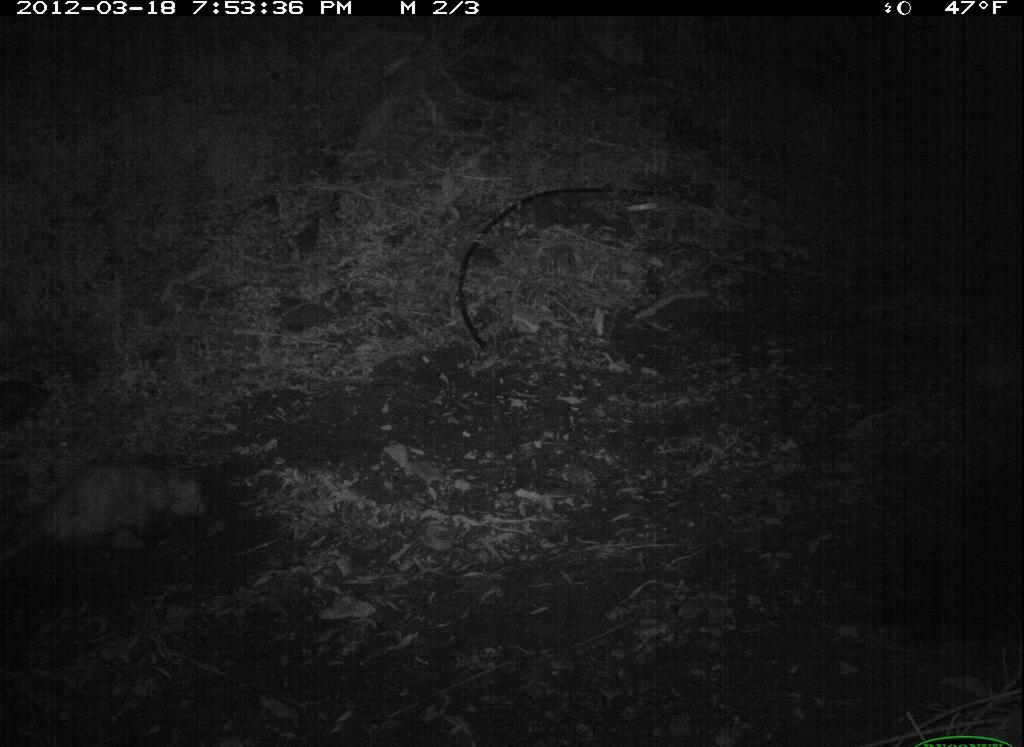opossum: (4, 445, 214, 571)
